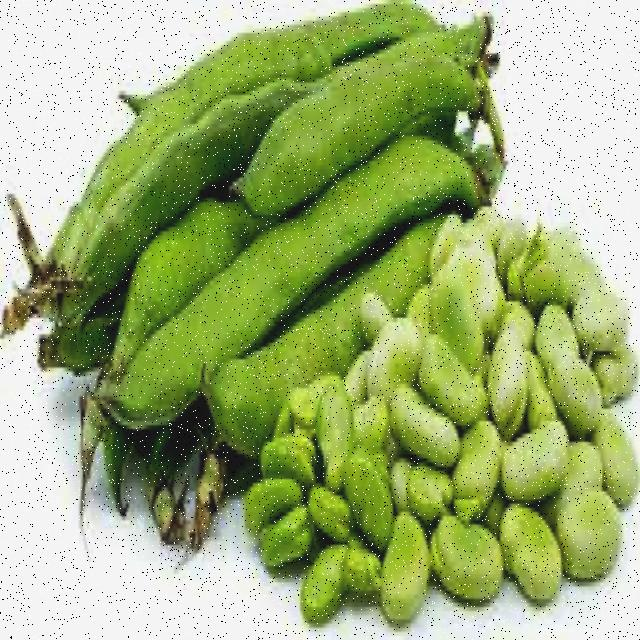Broad Beans: (4, 2, 490, 430), (95, 137, 472, 432), (368, 281, 610, 598), (222, 18, 489, 237)
